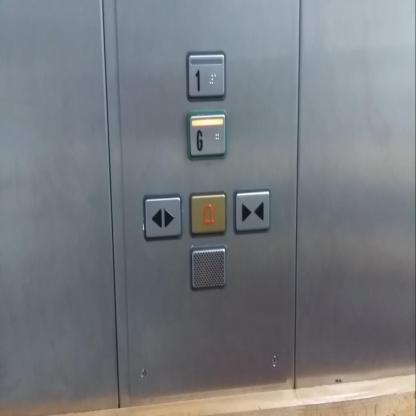1: (186, 50, 226, 100)
G: (188, 109, 226, 159)
alarm: (188, 188, 227, 237)
close: (233, 188, 270, 233)
open: (143, 193, 183, 241)
speaker: (190, 244, 228, 293)
